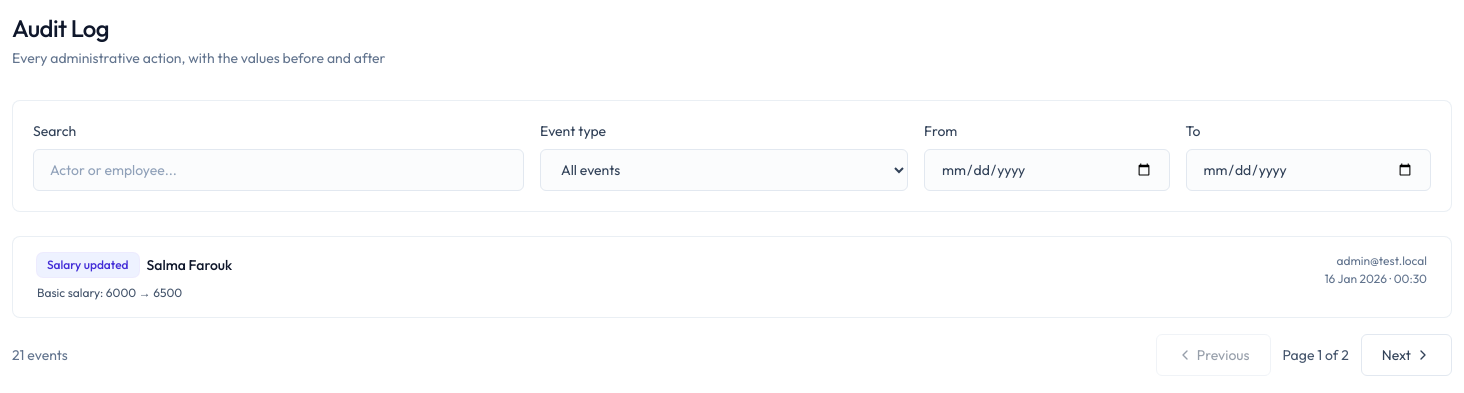
AuditLogView › moves between pages
Check: the text "Salma Farouk" is shown, box top-left (147, 255), bottom-right (232, 275)
Check: the text "Page 1 of 2" is shown, box top-left (1282, 345), bottom-right (1349, 365)
Click the button "Next" at (1406, 355), box top-left (1361, 334), bottom-right (1452, 376)
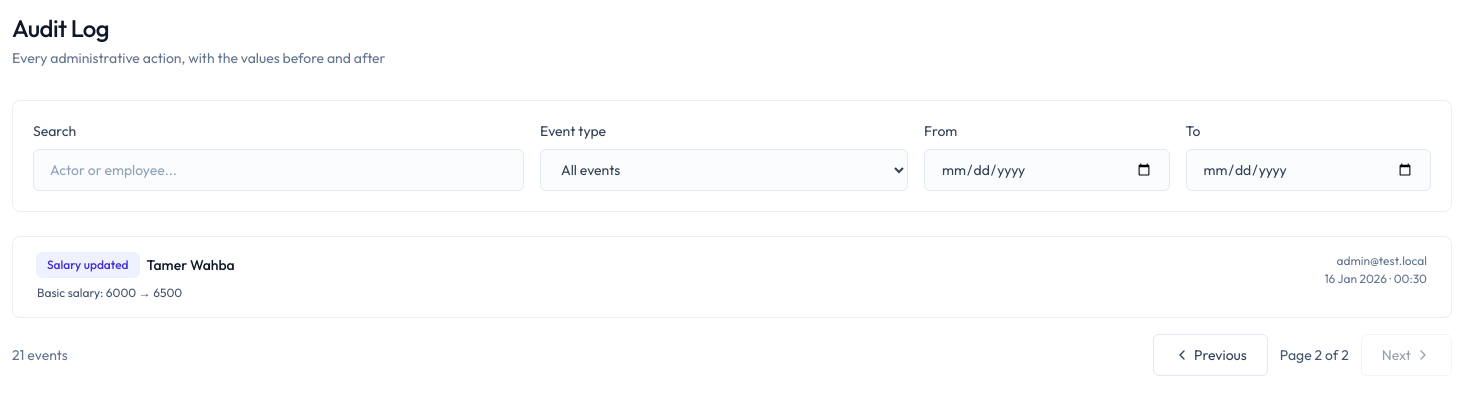
Check: the text "Tamer Wahba" is shown, box top-left (147, 255), bottom-right (235, 275)
Check: the text "Page 2 of 2" is shown, box top-left (1280, 345), bottom-right (1349, 365)
Check: the button "Next" is disabled, box top-left (1361, 334), bottom-right (1452, 376)
